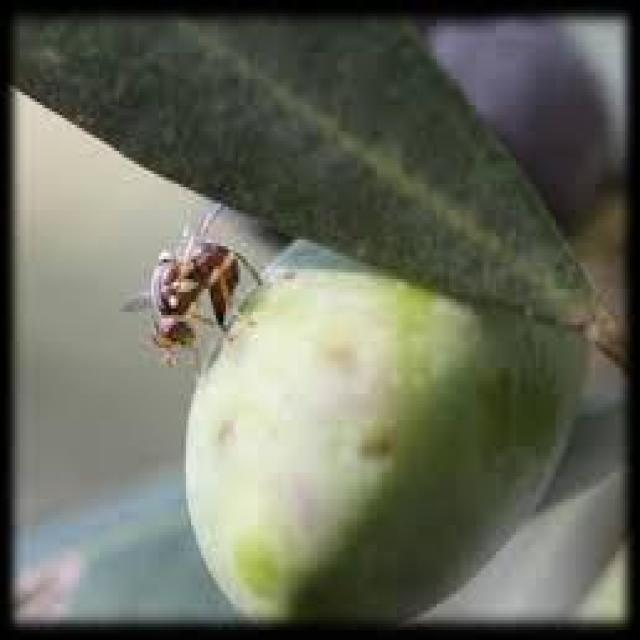Olive Fruit Fly: (105, 194, 278, 387)
